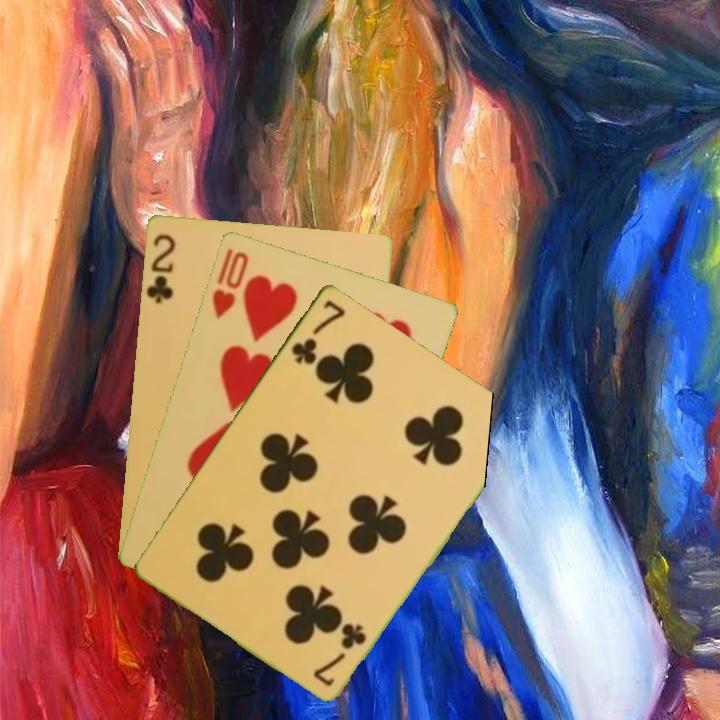10h: (208, 244, 251, 321)
2c: (142, 230, 178, 306)
7c: (287, 296, 348, 367), (311, 619, 370, 689)
